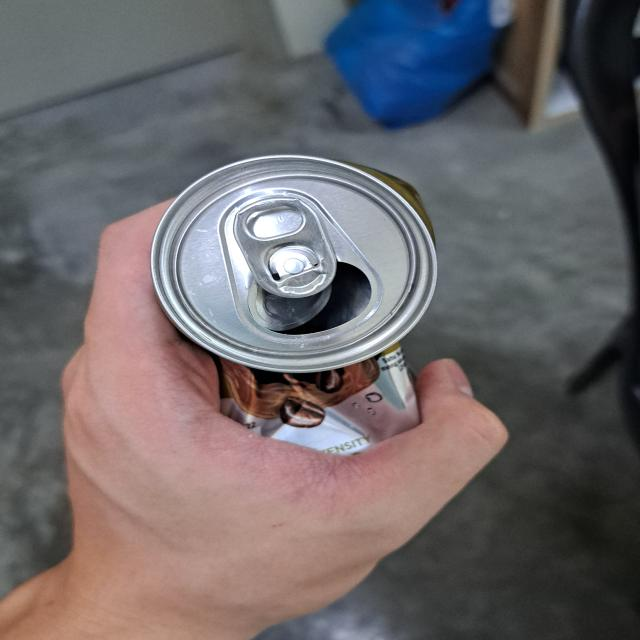can: (150, 155, 440, 455)
pop tab: (235, 196, 338, 298)
